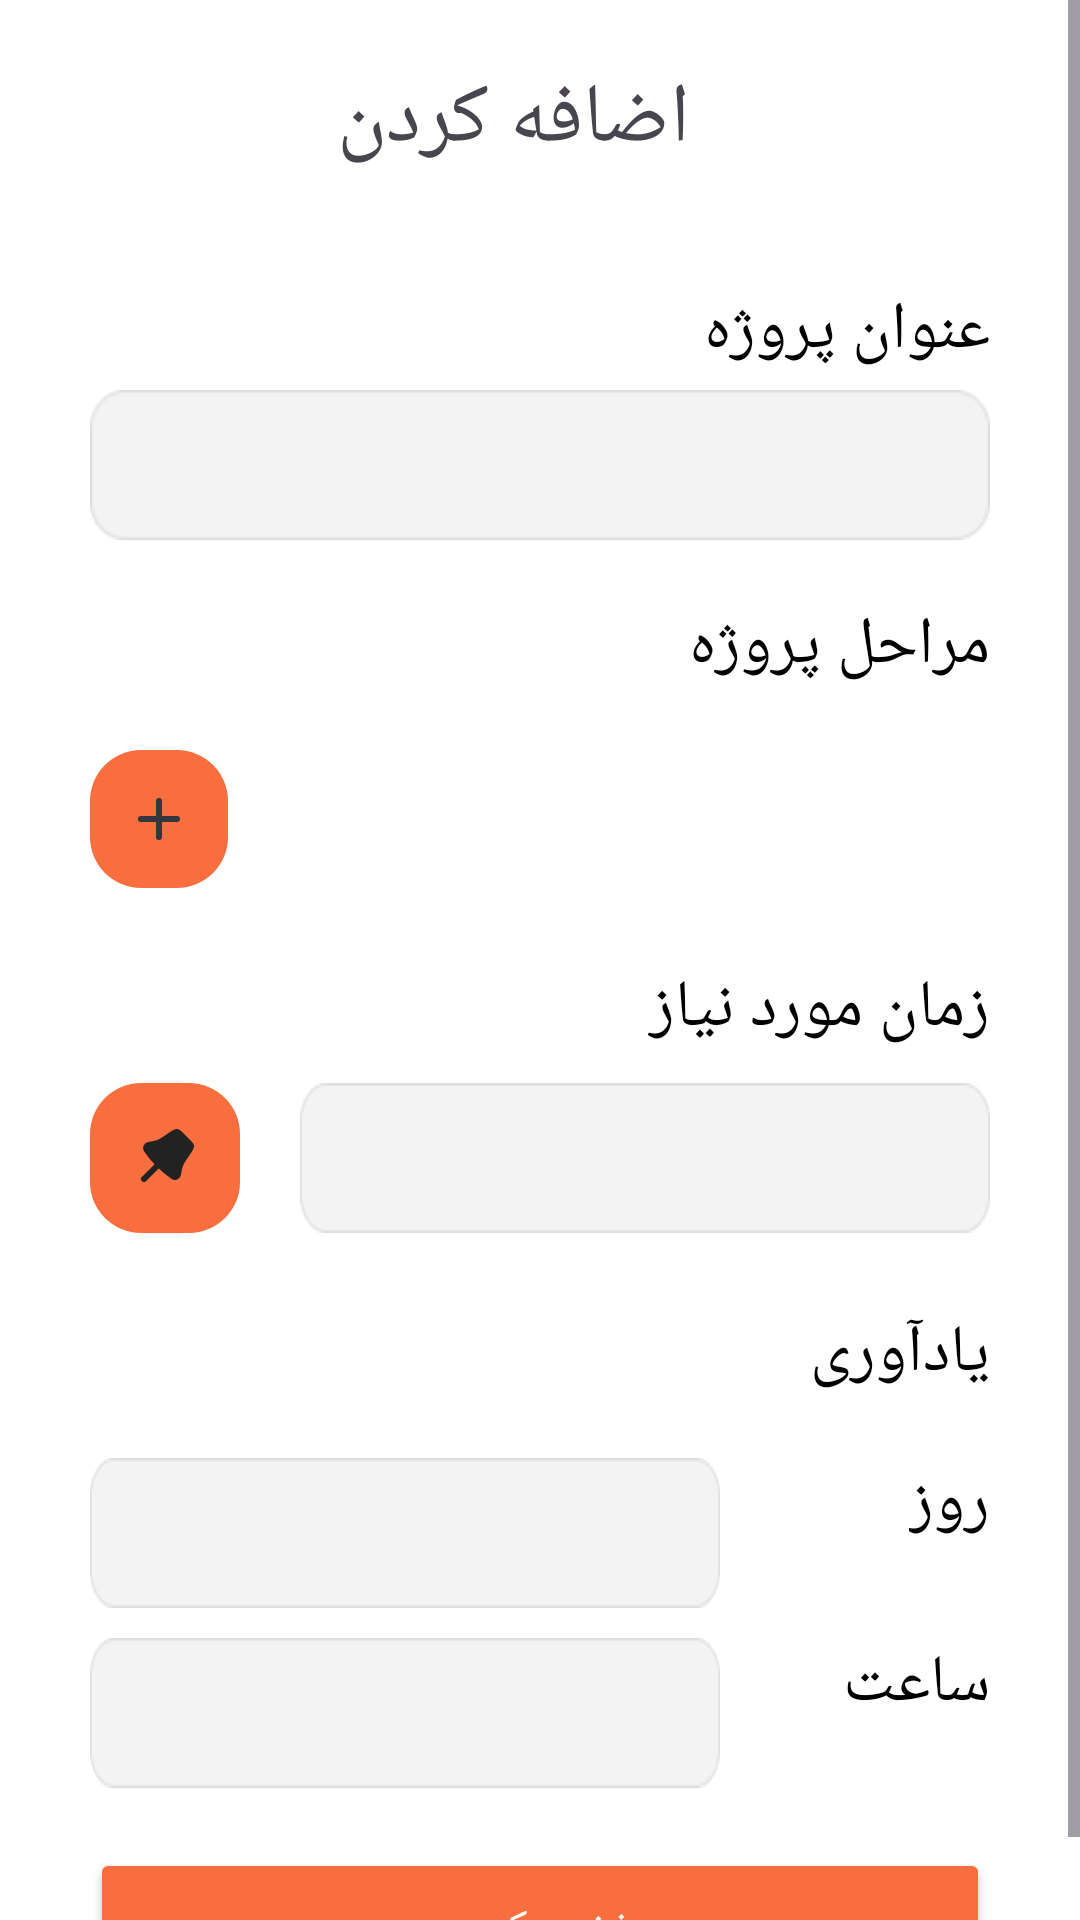

Named icons in this screenshot (1080px×1920px) and their bounding boxes, (x1, y1, x2, y2):
add stages: (90, 750, 228, 888)
radio pin: (90, 1083, 240, 1233)
